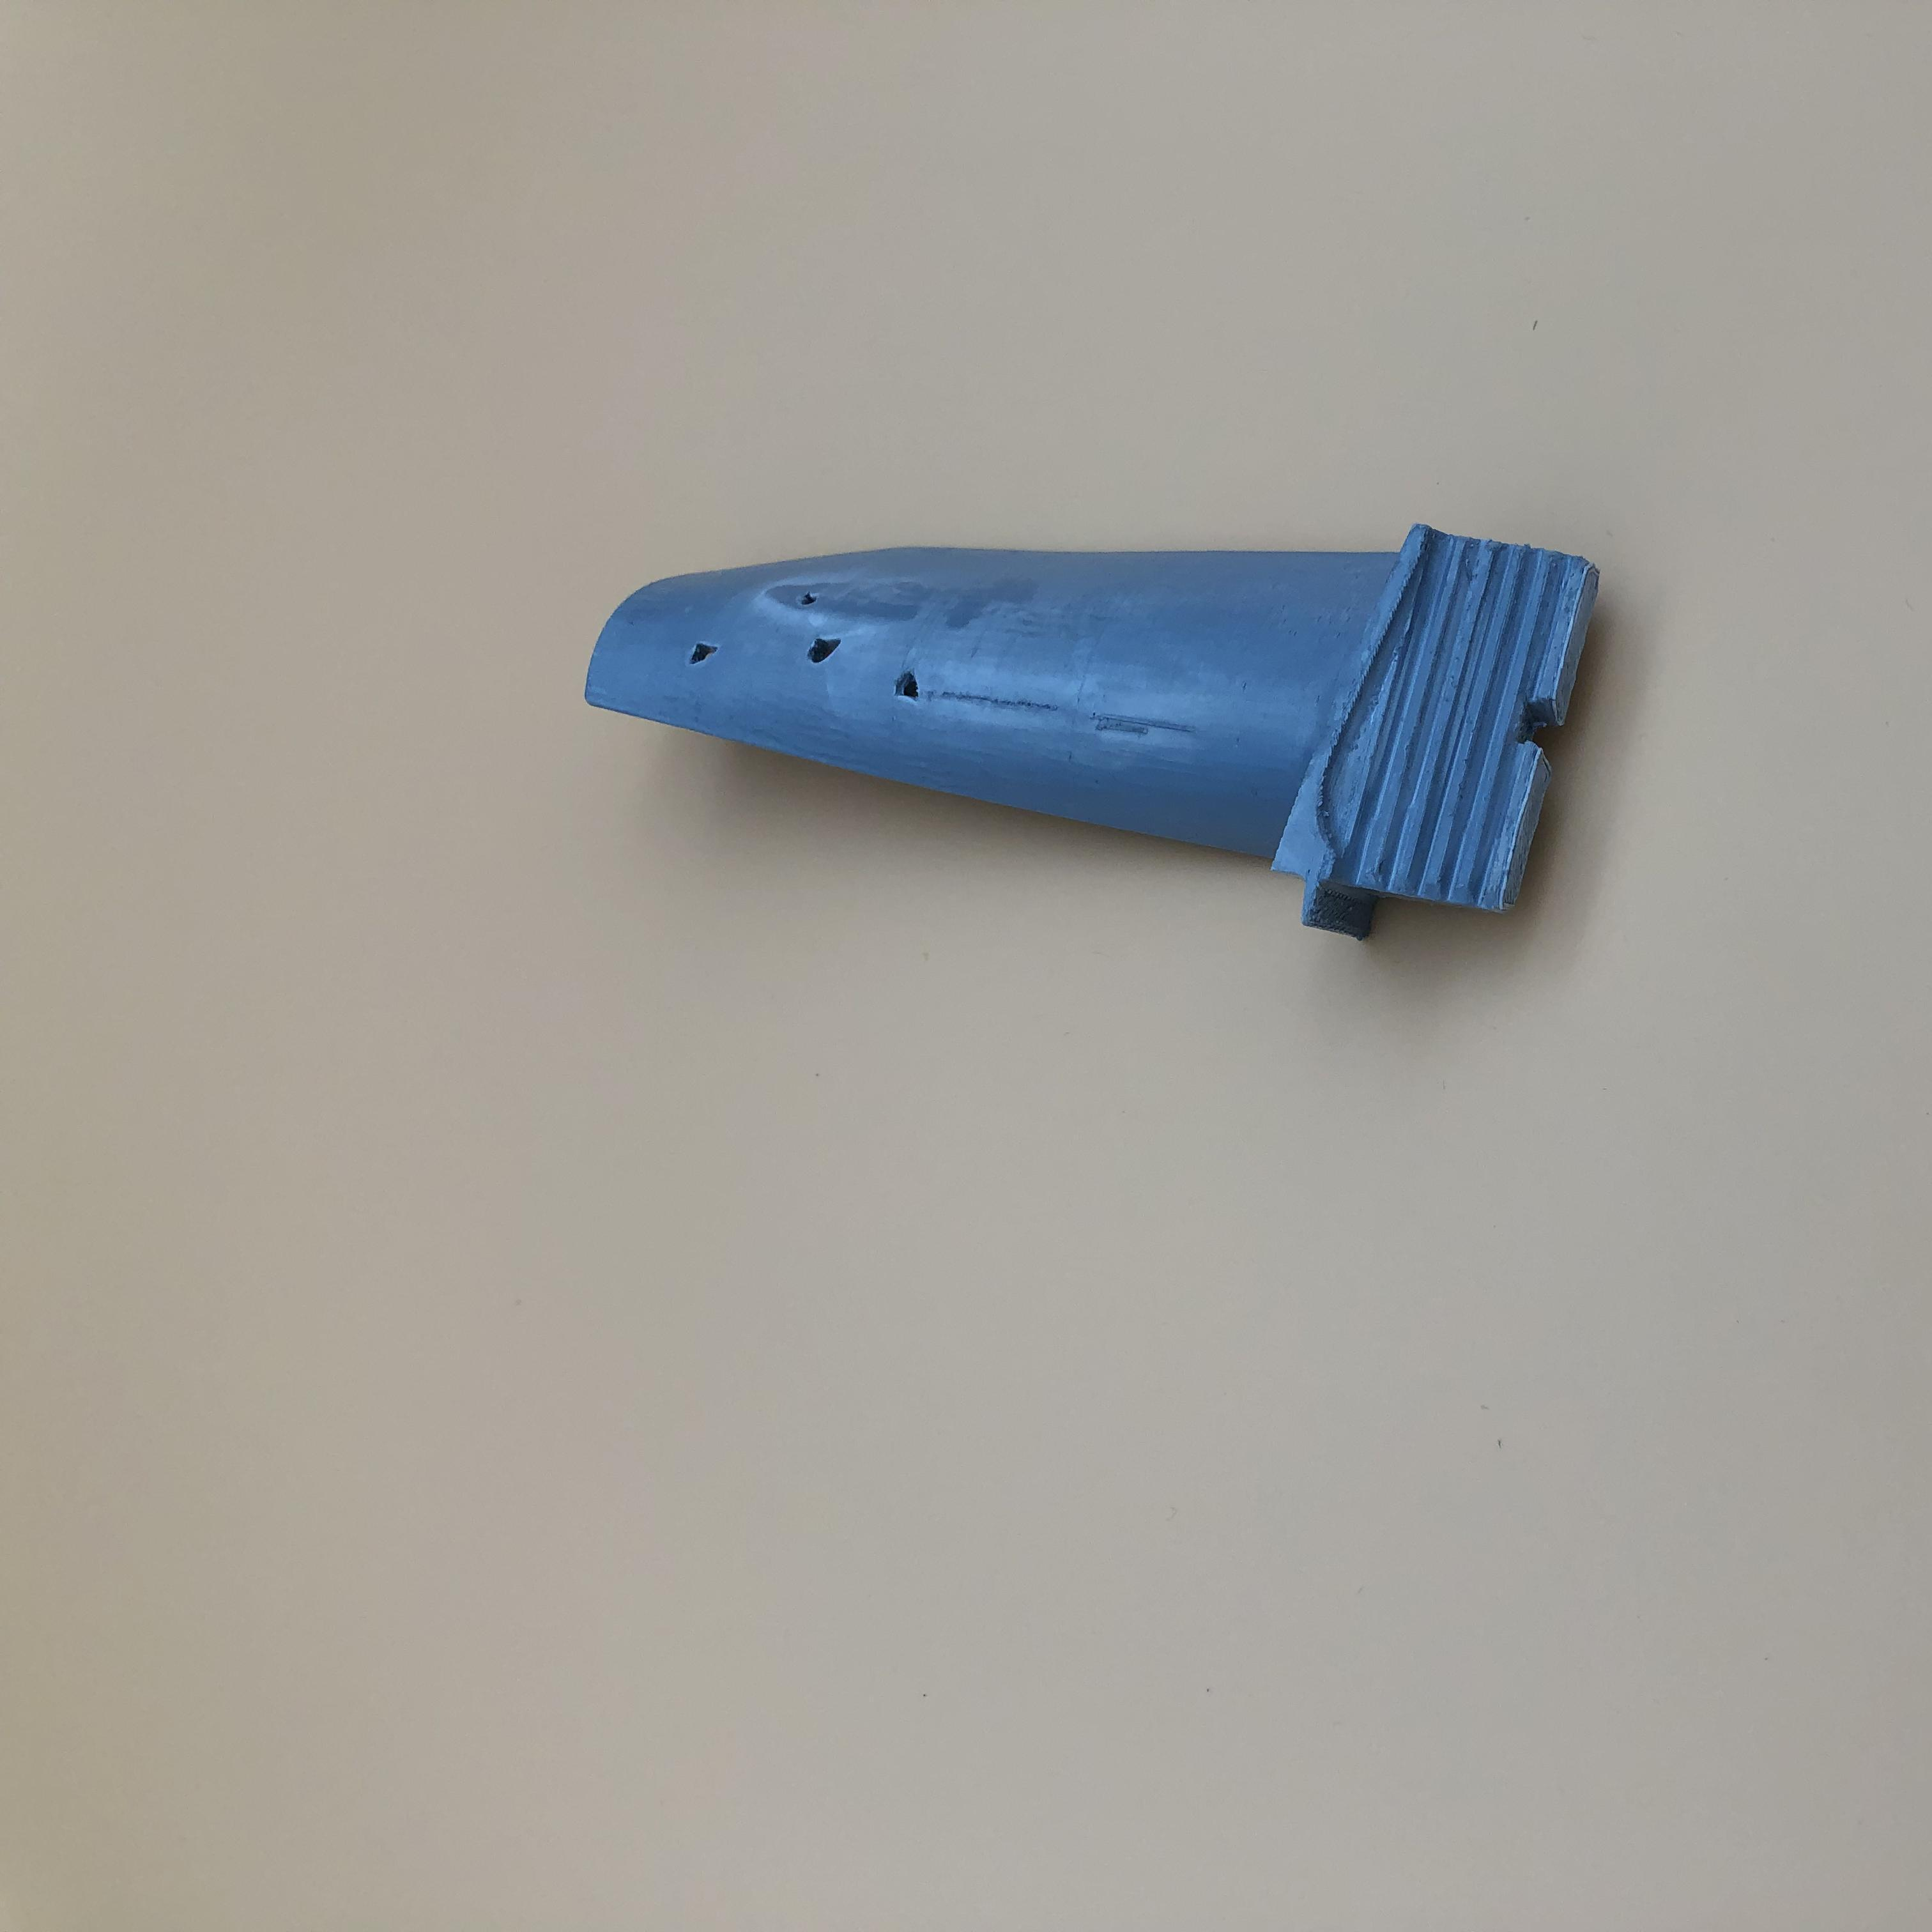breakdown: (695, 596, 943, 697)
